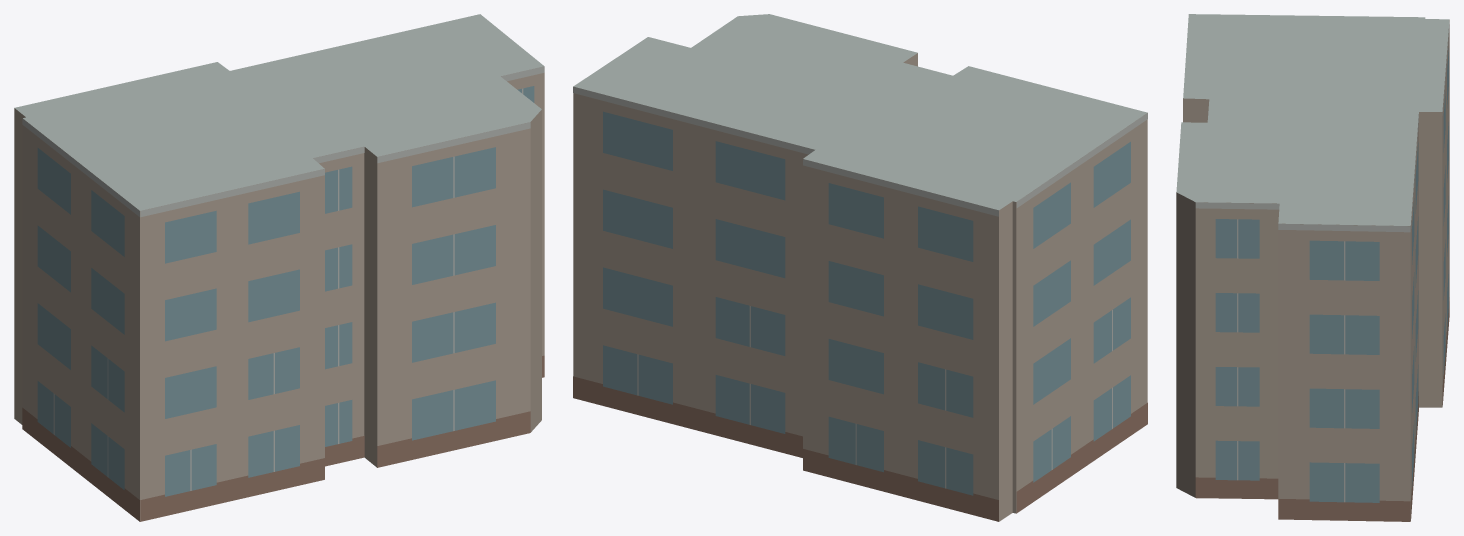
File: survey-upis-33039259.glb
3 views of the same model, side by side, from view 1: azimuth 30°, elevation 25°; view 2: azimuth 150°, elevation 25°; view 3: azimuth 270°, elevation 25° (orthographic). The views are drawn at different scales.
Visible parts, largest first — view 1: survey-upis-33039259.tmp; view 2: survey-upis-33039259.tmp; view 3: survey-upis-33039259.tmp.
Boxes of the visible parts, box(x1,y1,x2,y2) form: survey-upis-33039259.tmp: box(14, 14, 544, 521); survey-upis-33039259.tmp: box(573, 14, 1147, 521); survey-upis-33039259.tmp: box(1176, 14, 1449, 521).
Size of the model in its own units: 18 by 11.7 by 9.8.
